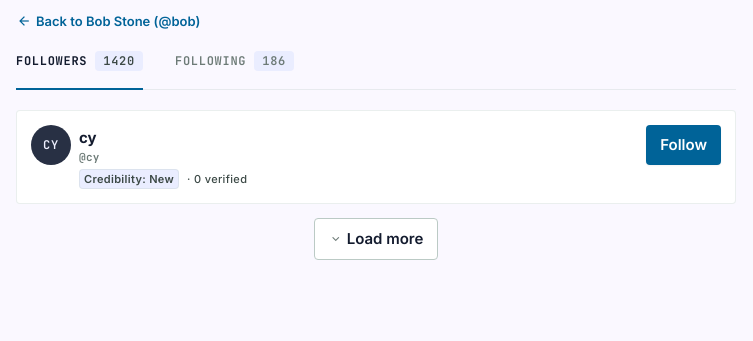
Test: Connections › keeps the list and offers another try when Load more fails
Click the button "Load more". click: (376, 239)
box: [314,218,438,260]
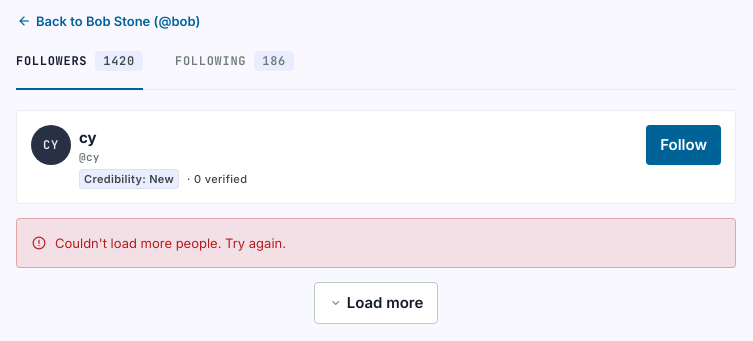
expect the text "Couldn't load more people. Try again." is shown: met, box [55,235,286,251]
